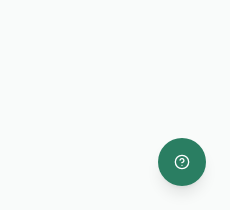
Test: HelpWidget › closes menu after navigation
Click the button named "Help openen" at (182, 162), box [158,138,206,186]
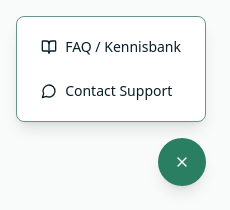
Click the button "FAQ / Kennisbank" at (111, 47), box [29,29,193,65]
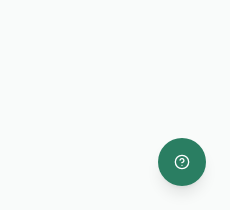
Check: the button "FAQ / Kennisbank" is gone
